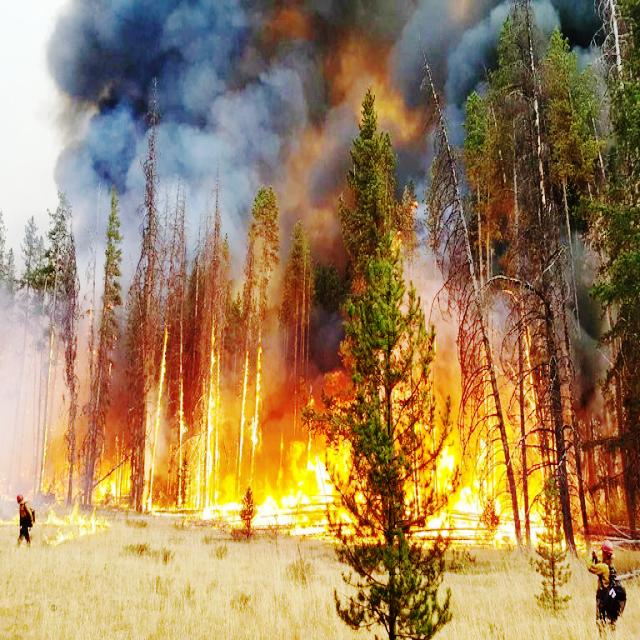api: (428, 450, 552, 552), (274, 445, 367, 535), (39, 502, 113, 546), (151, 343, 167, 525), (96, 470, 132, 507), (206, 491, 245, 524), (253, 344, 264, 456), (258, 477, 270, 532)
asap: (34, 1, 491, 232), (564, 221, 615, 420), (298, 229, 356, 389), (503, 1, 620, 79)
